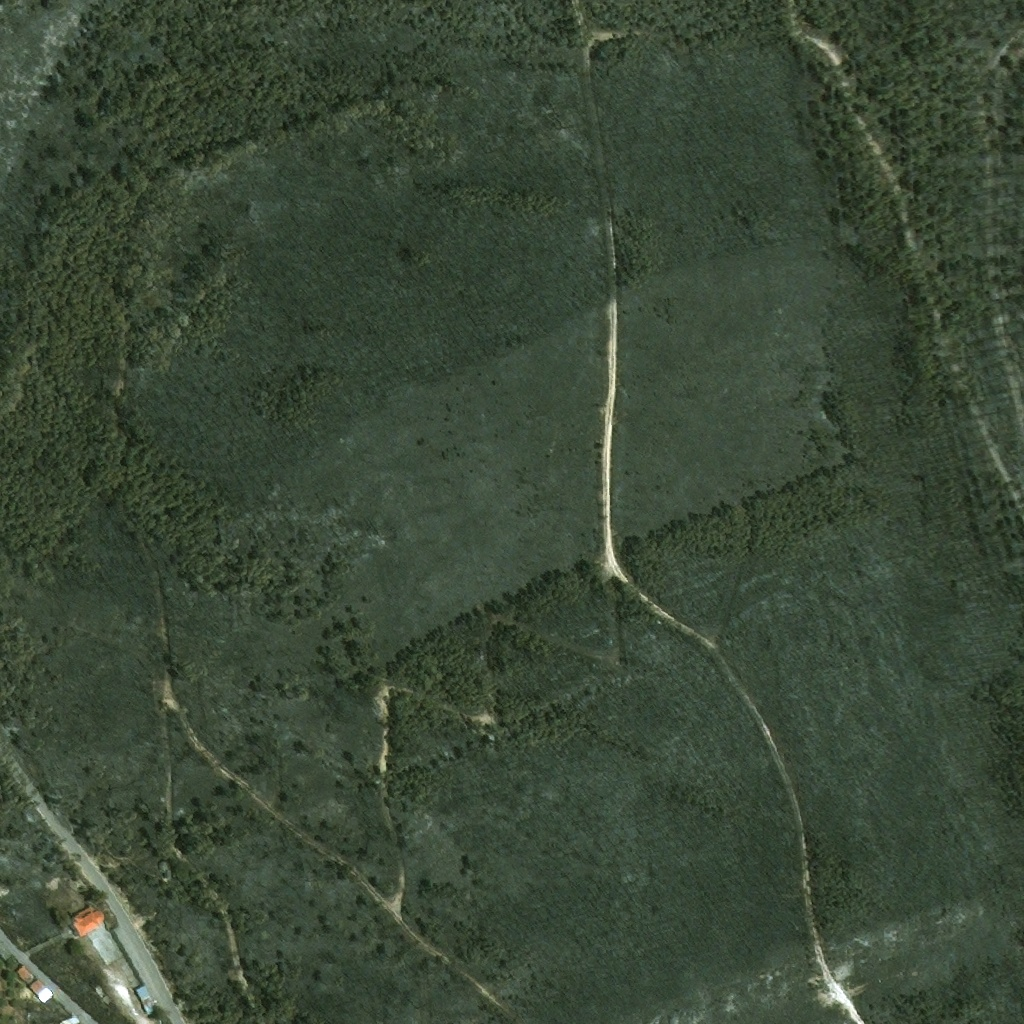0 no-damage: (68, 904, 107, 938), (134, 984, 158, 1015), (29, 979, 54, 1003), (16, 964, 36, 985), (0, 940, 13, 960), (6, 955, 20, 970)
4 un-classified: (60, 1013, 81, 1023)
